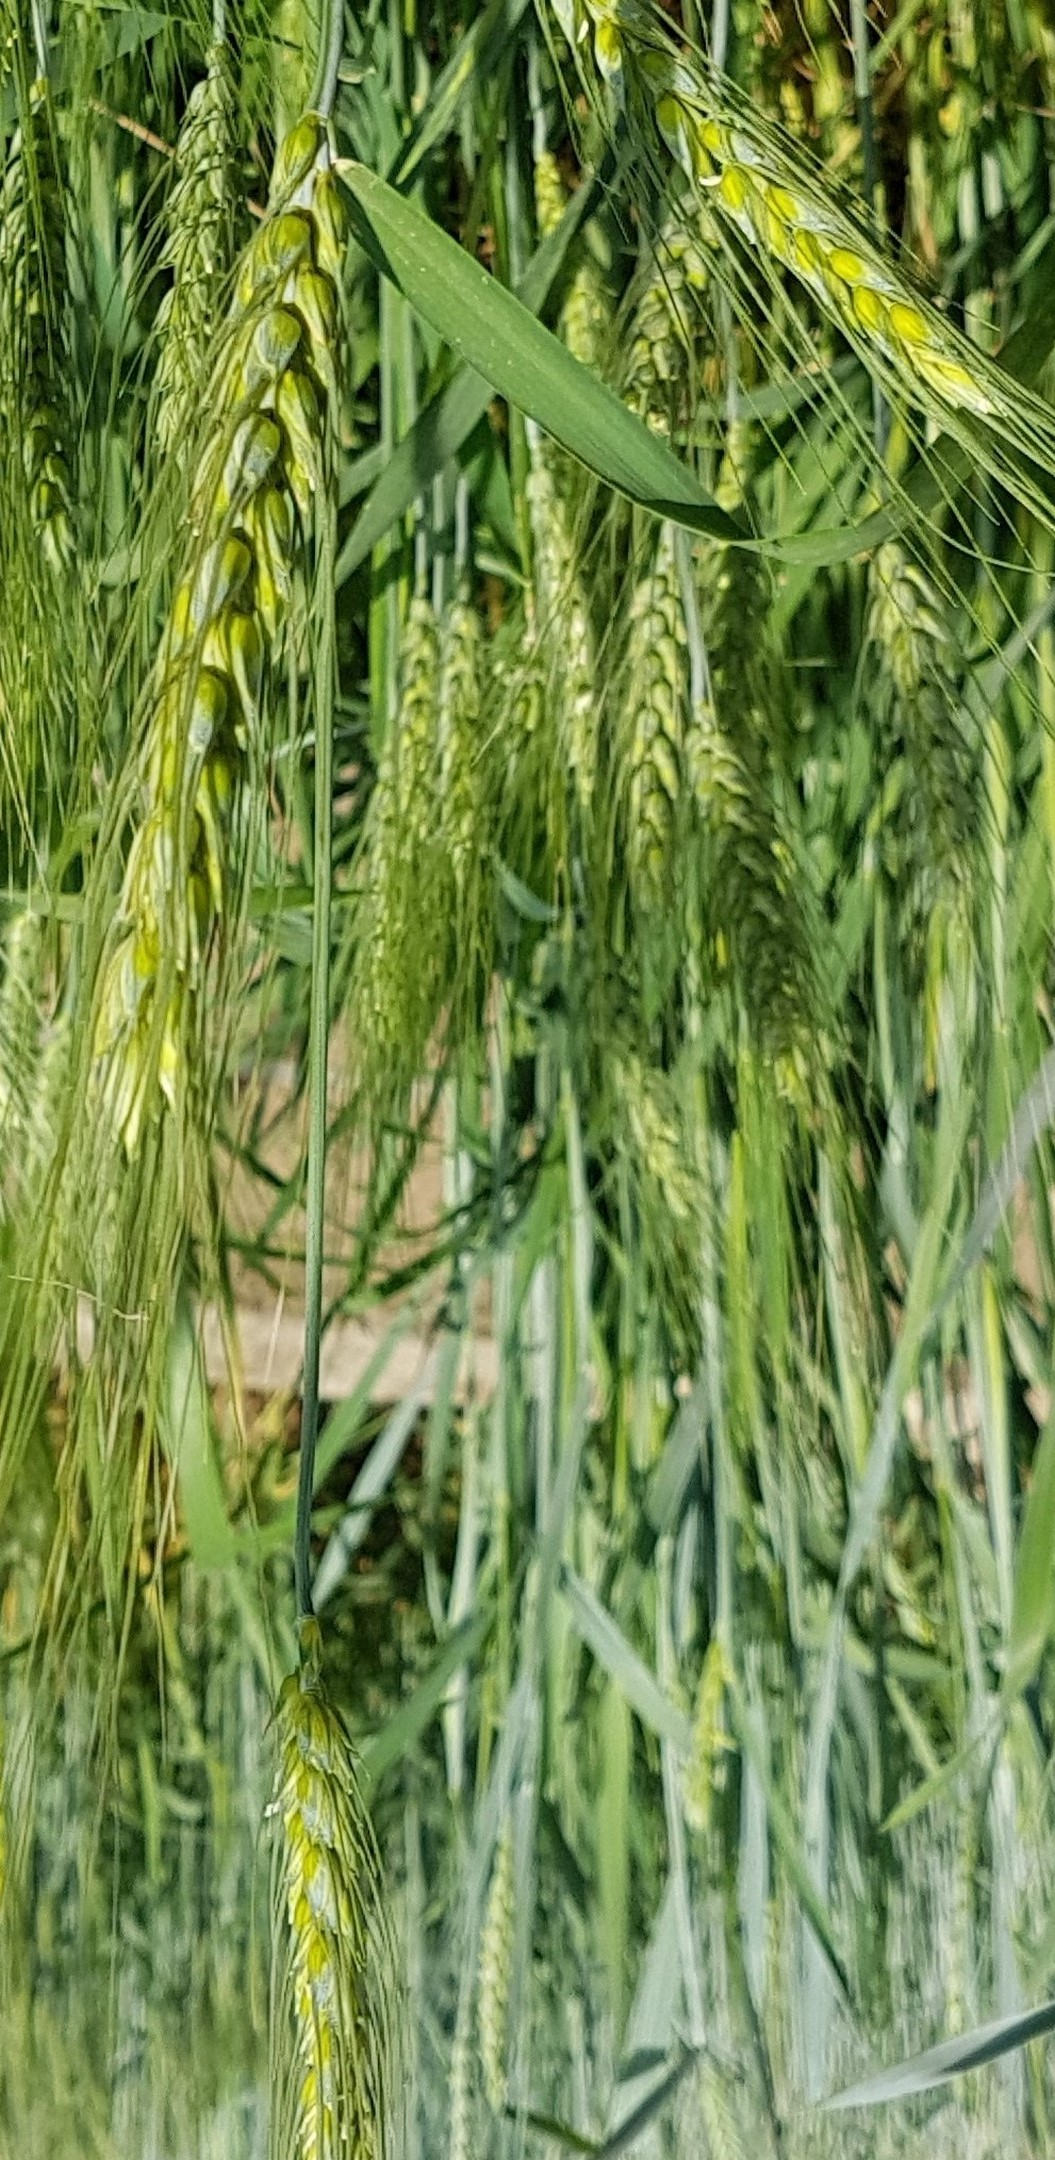Healthy Wheat: (61, 103, 415, 1174), (584, 36, 1051, 438), (251, 1624, 430, 2160)
